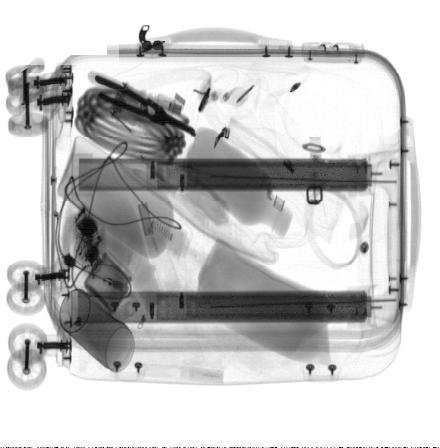Pliers: (95, 74, 196, 138)
